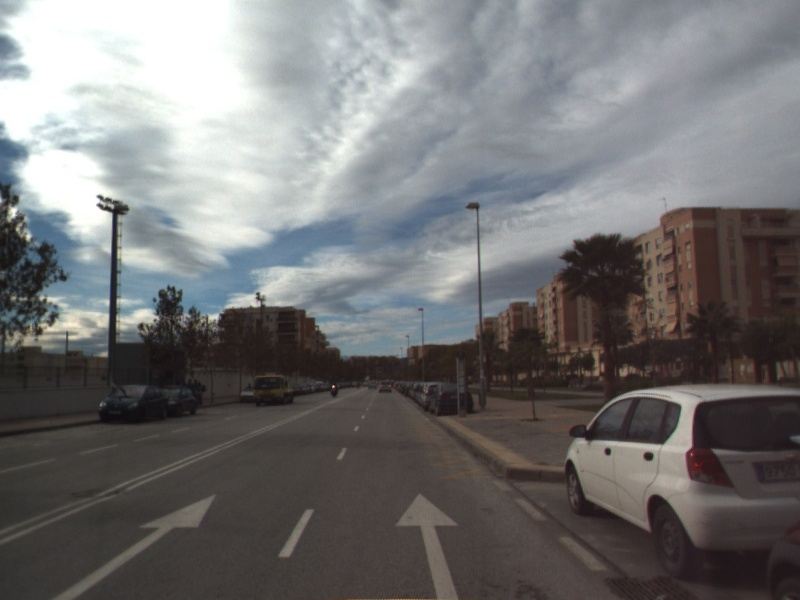STRAIGHT: (50, 492, 218, 600), (393, 491, 462, 600)
